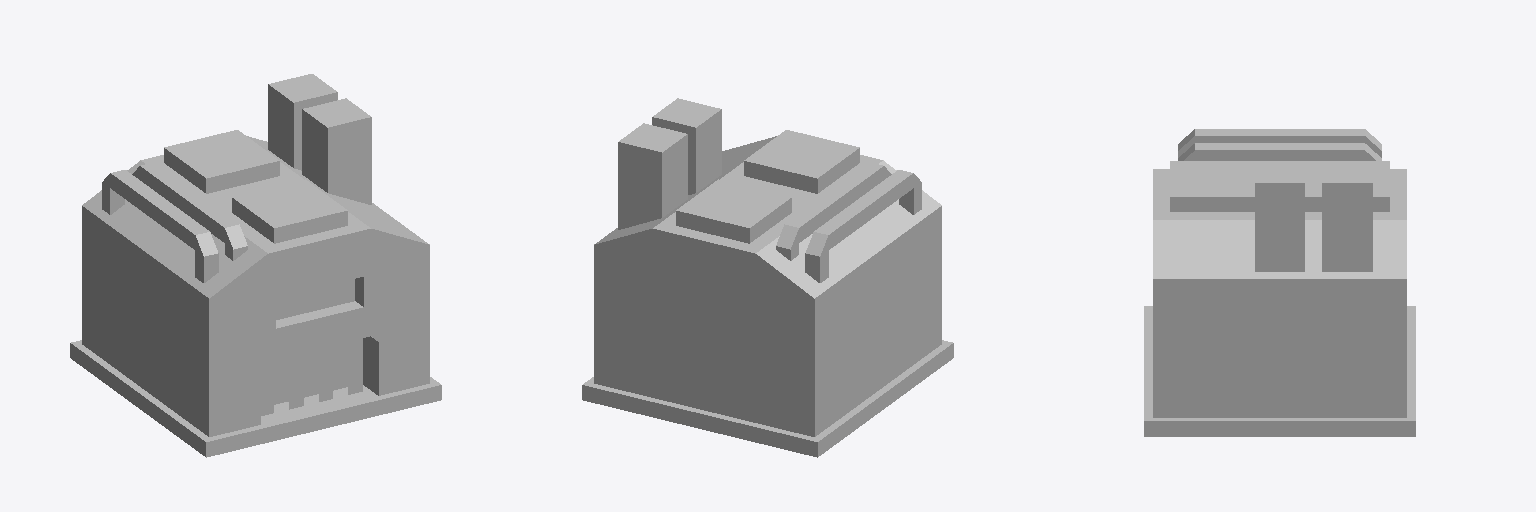
Rendered from furnace_iron.obj.
The picture shows the model from 3 angles: view 1: azimuth 30°, elevation 25°; view 2: azimuth 150°, elevation 25°; view 3: azimuth 270°, elevation 25°; orthographic projection.
Parts seen in each view (by area): view 1: Main, On; view 2: Main; view 3: Main.
Part boxes in pixels (bbox=[...]): Main: bbox=[70, 74, 441, 457]; On: bbox=[274, 336, 378, 404]; Main: bbox=[582, 98, 953, 457]; Main: bbox=[1144, 129, 1415, 436].
Bounding box in the file's own units: 2 × 2 × 2.